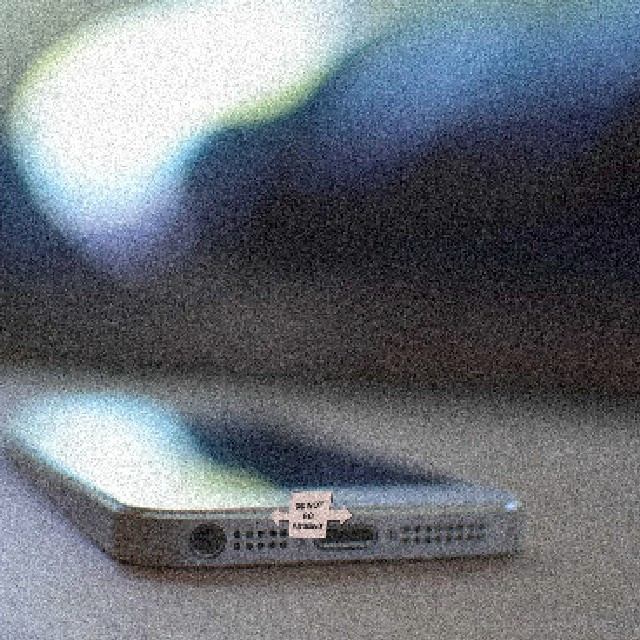DO_NOT_GO_AROUND: (267, 488, 352, 537)
